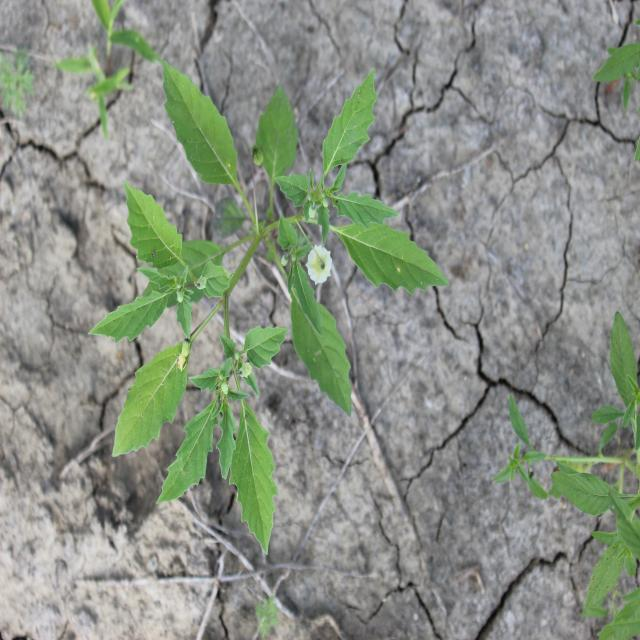CutleafGroundcherry: (86, 56, 452, 561)
Waterhemp: (490, 305, 639, 639)
